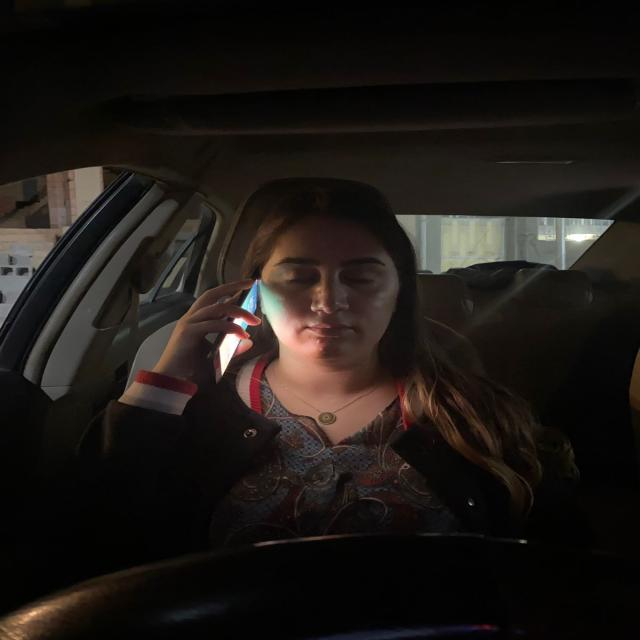phone: (205, 277, 259, 385)
